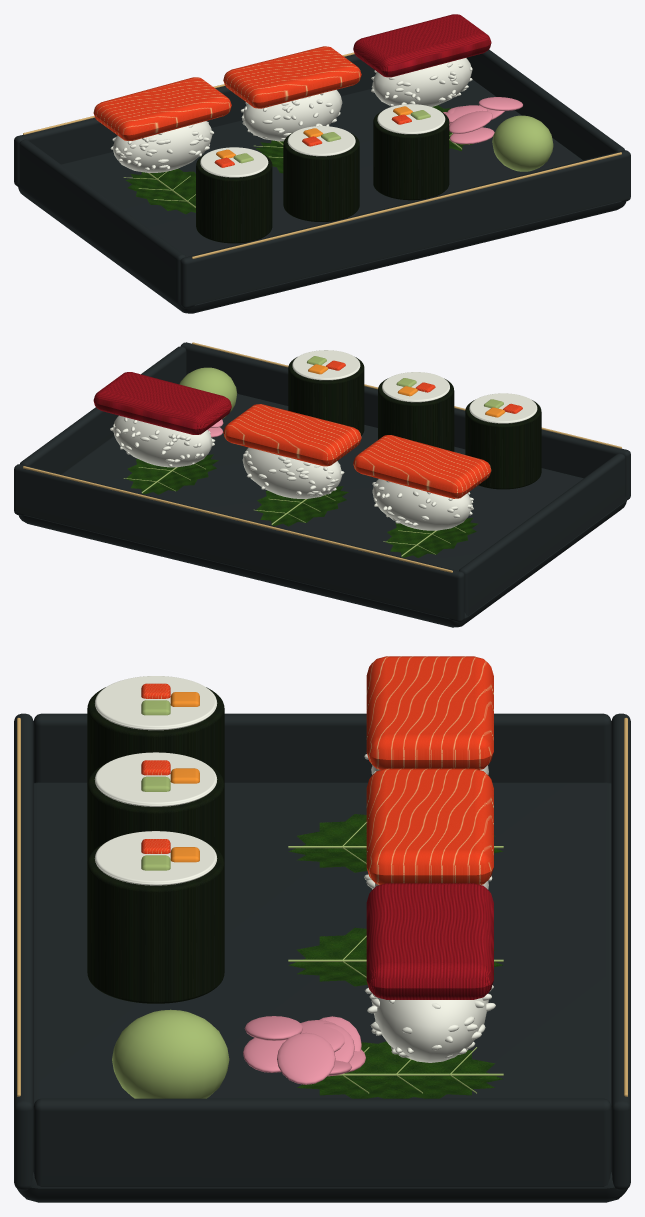
File: 10_Omakase_Sushi.glb
3 views of the same model, one above another, from view 1: azimuth 30°, elevation 25°; view 2: azimuth 150°, elevation 25°; view 3: azimuth 270°, elevation 25° (orthographic). The views are drawn at different scales.
Visible parts, largest first — view 1: SM_Lacquer tray rim, SM_Lacquer tray base, SM_Lacquer tray end, SM_Fish slice, SM_Fish slice.002, SM_Fish slice.001, SM_Lacquer tray end.001, SM_Nori wrap, SM_Nori wrap.002, SM_Nori wrap.001, SM_Lacquer tray rim.001, SM_Rice mound.002 (+12 smaller); view 2: SM_Lacquer tray base, SM_Lacquer tray rim.001, SM_Lacquer tray end, SM_Lacquer tray rim, SM_Fish slice, SM_Fish slice.002, SM_Fish slice.001, SM_Nori wrap, SM_Lacquer tray end.001, SM_Nori wrap.002, SM_Nori wrap.001, SM_Rice mound (+11 smaller); view 3: SM_Lacquer tray base, SM_Lacquer tray end.001, SM_Lacquer tray end, SM_Nori wrap.002, SM_Fish slice.002, SM_Fish slice.001, SM_Fish slice, SM_Wasabi, SM_Lacquer tray rim, SM_Lacquer tray rim.001, SM_Serrated shiso.002, SM_Nori wrap.001 (+12 smaller).
Part boxes in pixels (x1,y1,x2,y2): SM_Lacquer tray rim: (180, 150, 630, 308); SM_Lacquer tray base: (18, 80, 626, 313); SM_Lacquer tray end: (19, 139, 185, 301); SM_Fish slice: (93, 77, 231, 140); SM_Fish slice.002: (353, 14, 491, 77); SM_Fish slice.001: (223, 46, 361, 108); SM_Lacquer tray end.001: (466, 49, 624, 160); SM_Nori wrap: (196, 154, 272, 243); SM_Nori wrap.002: (373, 111, 449, 200); SM_Nori wrap.001: (283, 132, 359, 221); SM_Lacquer tray rim.001: (14, 54, 375, 186); SM_Rice mound.002: (372, 58, 471, 106); SM_Lacquer tray base: (18, 394, 626, 627); SM_Lacquer tray rim.001: (14, 464, 464, 622); SM_Lacquer tray end: (459, 453, 625, 615); SM_Lacquer tray rim: (181, 342, 630, 500); SM_Fish slice: (353, 435, 491, 498); SM_Fish slice.002: (93, 372, 231, 434); SM_Fish slice.001: (223, 404, 361, 466); SM_Nori wrap: (465, 400, 541, 489); SM_Lacquer tray end.001: (20, 346, 186, 473); SM_Nori wrap.002: (288, 357, 364, 435); SM_Nori wrap.001: (378, 378, 454, 451); SM_Rice mound: (372, 479, 471, 530); SM_Lacquer tray base: (17, 782, 627, 1202); SM_Lacquer tray end.001: (33, 1098, 611, 1186); SM_Lacquer tray end: (33, 713, 611, 782); SM_Nori wrap.002: (87, 842, 224, 1003); SM_Fish slice.002: (366, 883, 493, 999); SM_Fish slice.001: (366, 768, 493, 884); SM_Fish slice: (366, 656, 493, 769); SM_Wasabi: (112, 1009, 229, 1098); SM_Lacquer tray rim: (14, 713, 33, 1190); SM_Lacquer tray rim.001: (611, 713, 630, 1190); SM_Serrated shiso.002: (297, 1041, 503, 1098); SM_Nori wrap.001: (87, 764, 224, 862).
Size of the model in its own units: 0.19 by 0.0465 by 0.126.
Materials: 10 (4 with a texture image).
